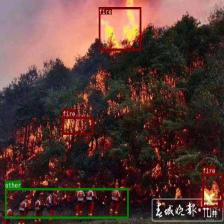fire: (99, 6, 141, 50), (202, 174, 223, 206), (62, 116, 93, 134)
